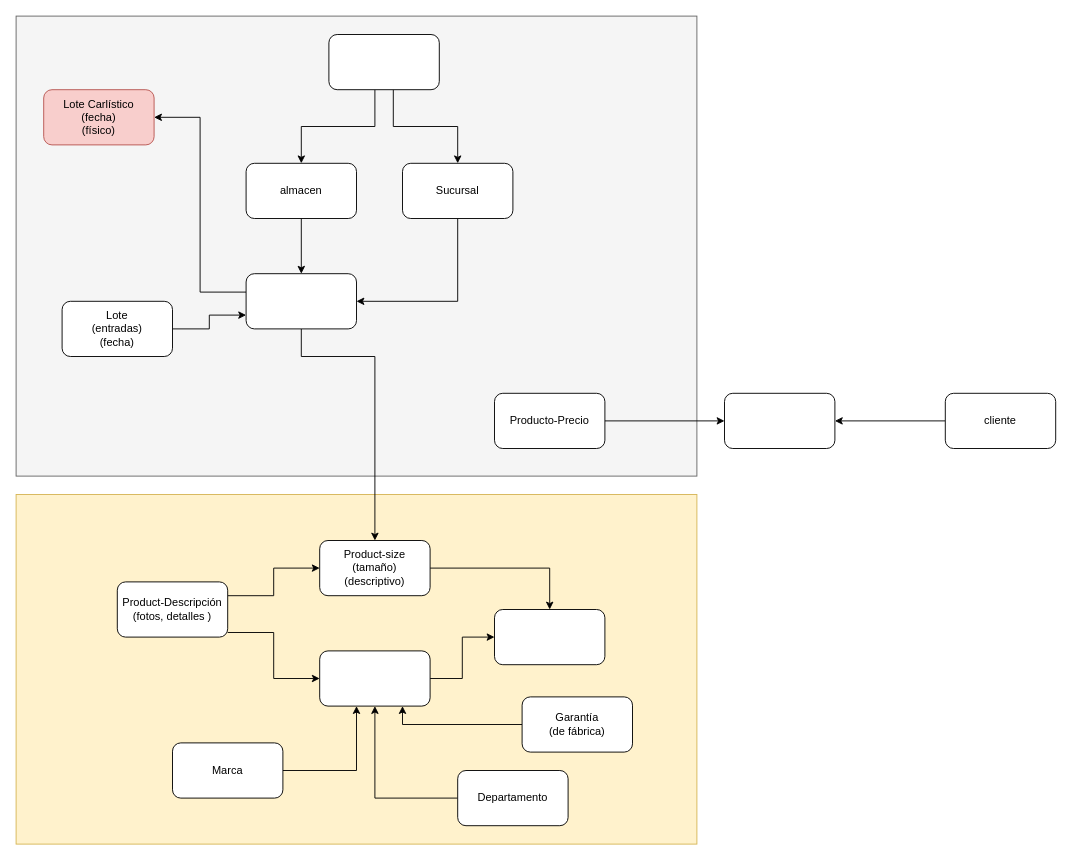
The diagram is 1072 pixels wide and 860 high, and some of its shapes have lost their labels. Each missing label, with the centre of its shape:
empresa: (x=383, y=62)
etiquetas: (x=549, y=637)
inventario (cantidad) (físico): (x=300, y=301)
Producto (representa unidad) (descriptivo): (x=374, y=678)
venta: (x=779, y=420)
